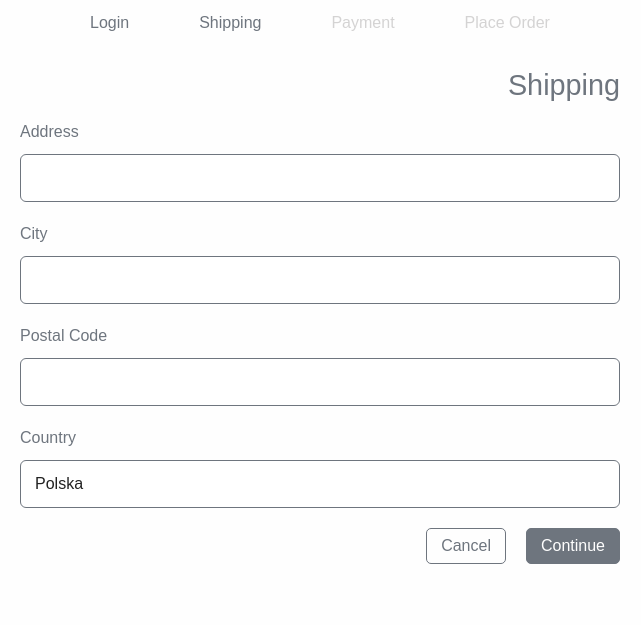
it: Shipping page › shows validation error when address is empty and touched
This screenshot has width=641, height=625.
Clear the field labelled "Address" at point(320, 178), box [20,154,620,202]
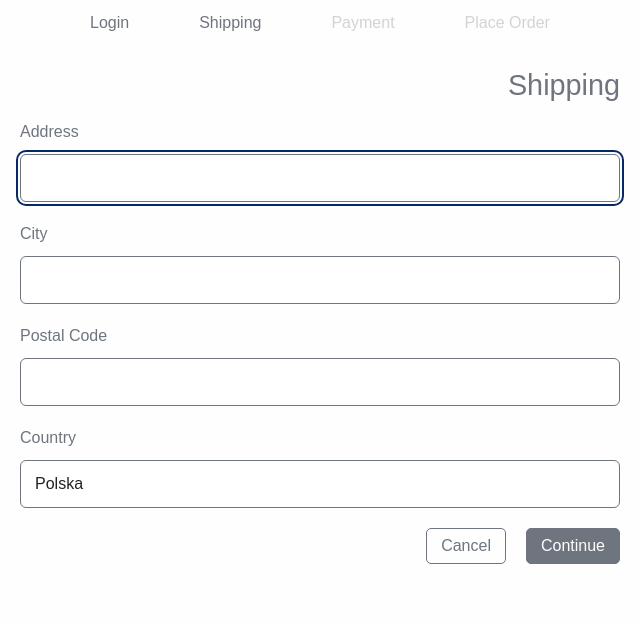
Press Tab
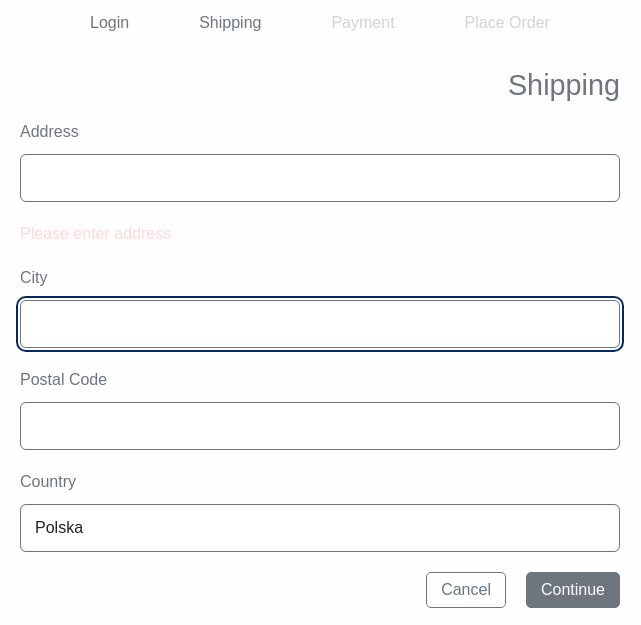
Expected: the text "Please enter address" is shown, [20,225,171,242]
